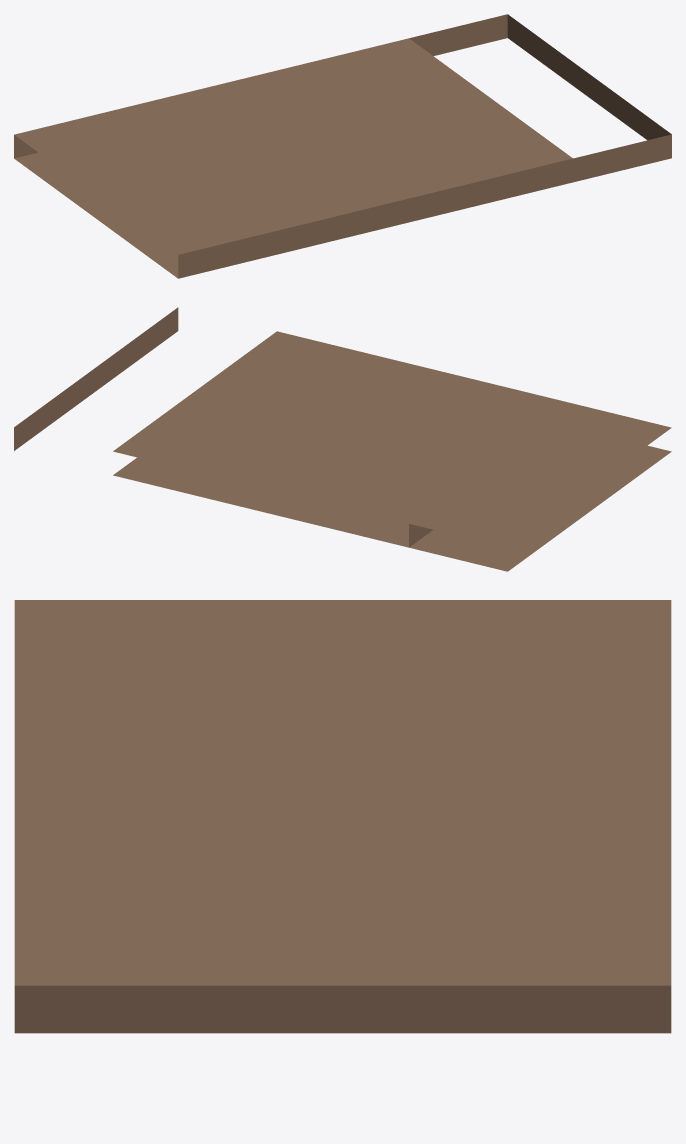
File: royal_backgammon.glb
The picture shows the model from 3 angles, top to bottom: view 1: azimuth 30°, elevation 25°; view 2: azimuth 150°, elevation 25°; view 3: azimuth 270°, elevation 25°; orthographic projection. The views are drawn at different scales.
Parts seen in each view (by area): view 1: LeftLeafPivot, RightLeafCase; view 2: LeftLeafPivot, RightLeafCase; view 3: LeftLeafPivot.
Part boxes in pixels (box(x1,y1,x2,y2)): LeftLeafPivot: box(14, 38, 573, 278); RightLeafCase: box(277, 14, 671, 254); LeftLeafPivot: box(113, 331, 671, 571); RightLeafCase: box(14, 307, 432, 547); LeftLeafPivot: box(14, 600, 671, 1033).
Size of the model in its own units: 13.4 by 0.62 by 7.72.
